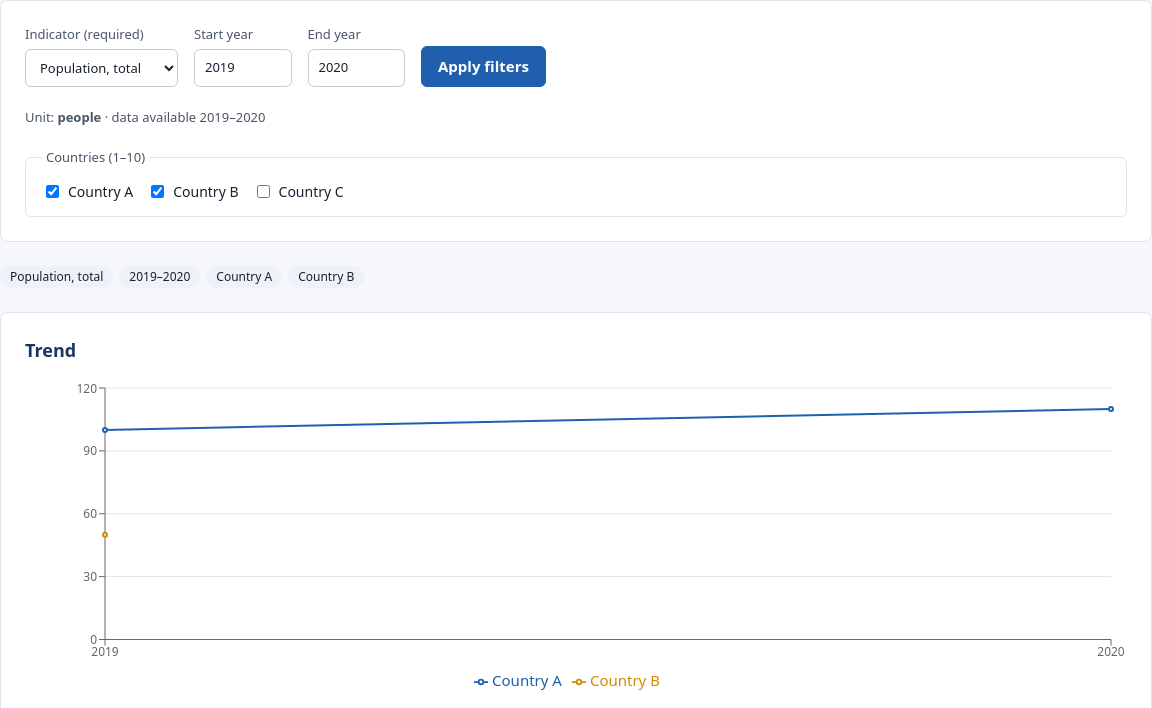
Test case: ExplorePage › shows an inline error and does not send an invalid year range
Step 1. Replace the text in the number field labelled "Start year" with "2025" → (243, 68), box [194,48,292,86]
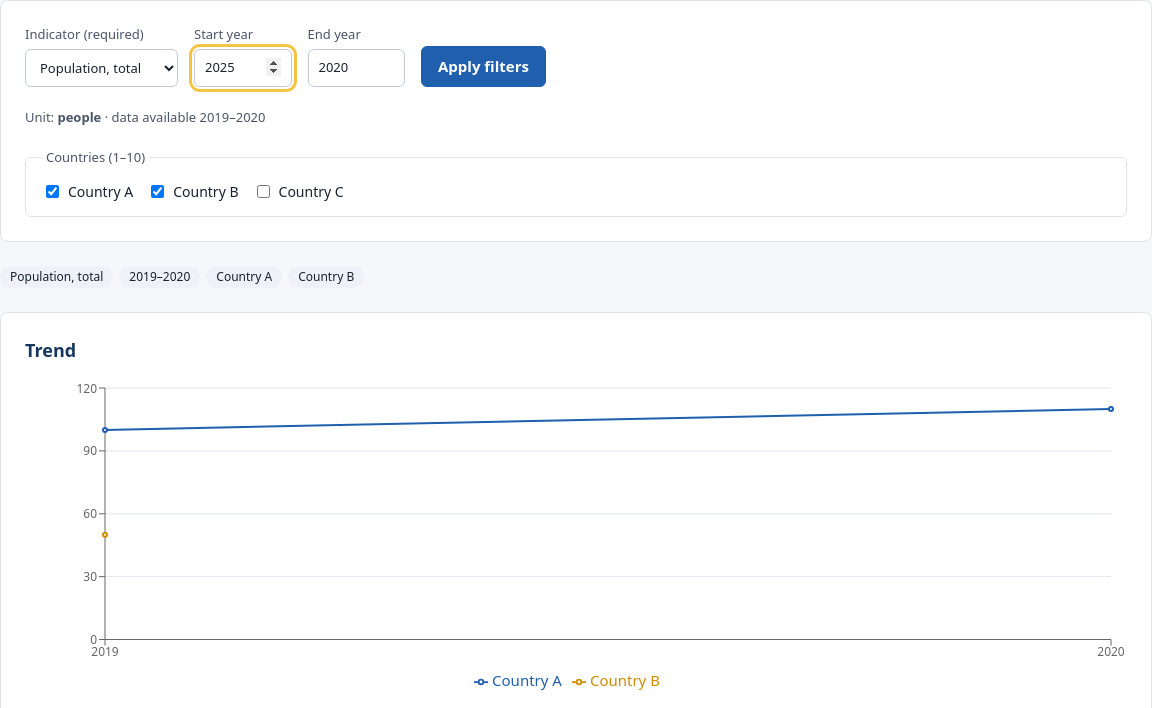
Step 2. Click the button "Apply filters" → (484, 66), box [421,46,546,86]
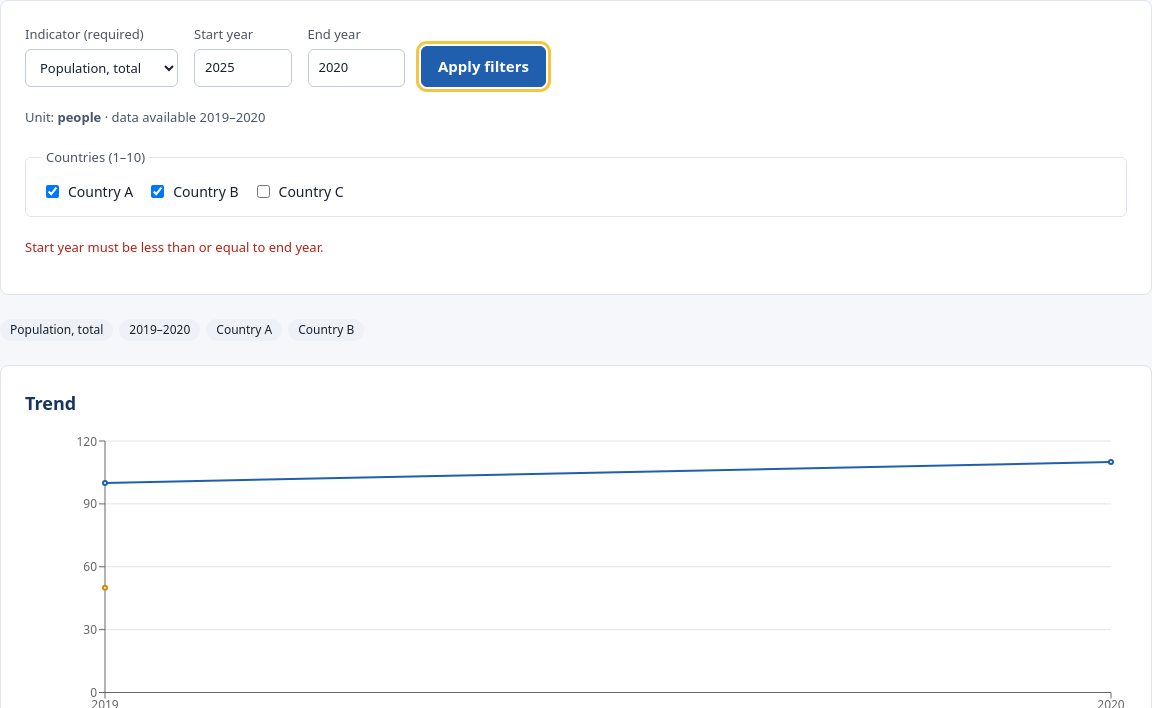
Now the message reads "Start year must be less than or equal to end year.", box [25,238,323,256]
